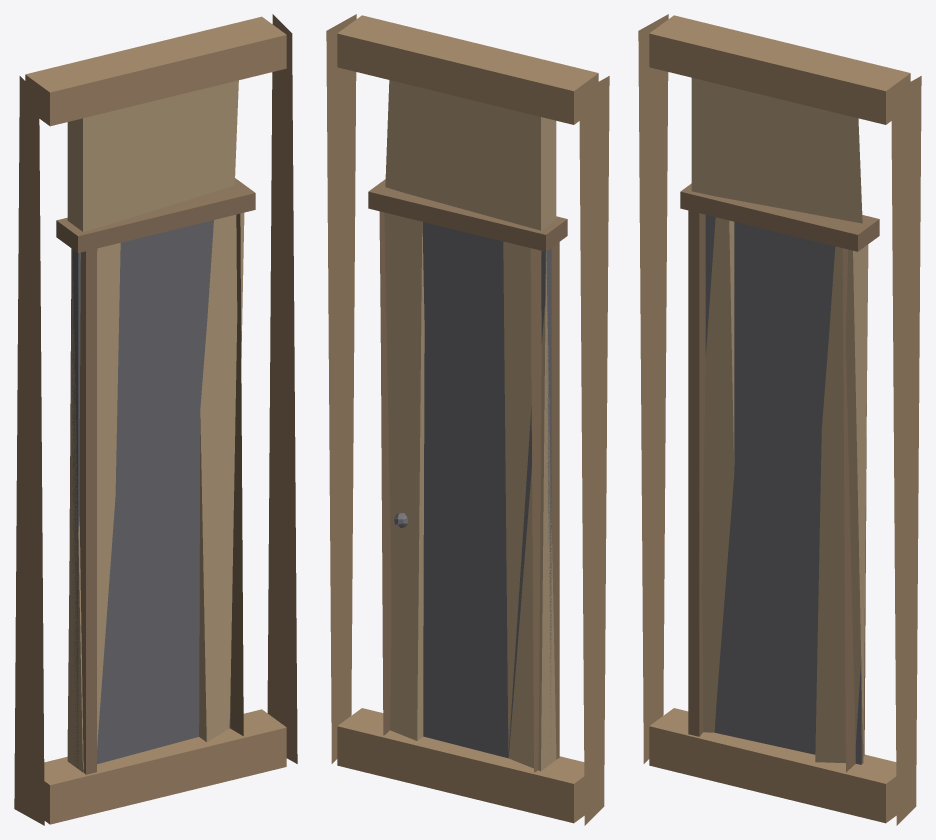
The model's file is 18-Casas_pared_puerta.glb.
3 views of the same model, side by side, from view 1: azimuth 30°, elevation 25°; view 2: azimuth 150°, elevation 25°; view 3: azimuth 330°, elevation 25° (orthographic).
Parts seen in each view (by area): view 1: SM_ParedP_M_Pared_Madera_Poste, SM_ParedP_M_Pared_Puerta, SM_ParedP_M_Pared_Madera_Panel, SM_ParedP_M_Pared_Marco_Puerta; view 2: SM_ParedP_M_Pared_Madera_Poste, SM_ParedP_M_Pared_Madera_Panel, SM_ParedP_M_Pared_Puerta, SM_ParedP_M_Pared_Marco_Puerta; view 3: SM_ParedP_M_Pared_Madera_Poste, SM_ParedP_M_Pared_Madera_Panel, SM_ParedP_M_Pared_Puerta, SM_ParedP_M_Pared_Marco_Puerta.
Boxes of the visible parts, <box> form: SM_ParedP_M_Pared_Madera_Poste: <box>14,14,297,825</box>; SM_ParedP_M_Pared_Puerta: <box>72,220,230,767</box>; SM_ParedP_M_Pared_Madera_Panel: <box>67,80,244,772</box>; SM_ParedP_M_Pared_Marco_Puerta: <box>56,178,255,774</box>; SM_ParedP_M_Pared_Madera_Poste: <box>326,14,609,825</box>; SM_ParedP_M_Pared_Madera_Panel: <box>379,80,556,771</box>; SM_ParedP_M_Pared_Puerta: <box>422,222,551,758</box>; SM_ParedP_M_Pared_Marco_Puerta: <box>368,179,567,772</box>; SM_ParedP_M_Pared_Madera_Poste: <box>638,14,921,825</box>; SM_ParedP_M_Pared_Madera_Panel: <box>691,78,868,763</box>; SM_ParedP_M_Pared_Puerta: <box>705,215,861,764</box>; SM_ParedP_M_Pared_Marco_Puerta: <box>680,183,879,772</box>.
Bounding box in the file's own units: 0.96 × 2.6 × 0.16.
